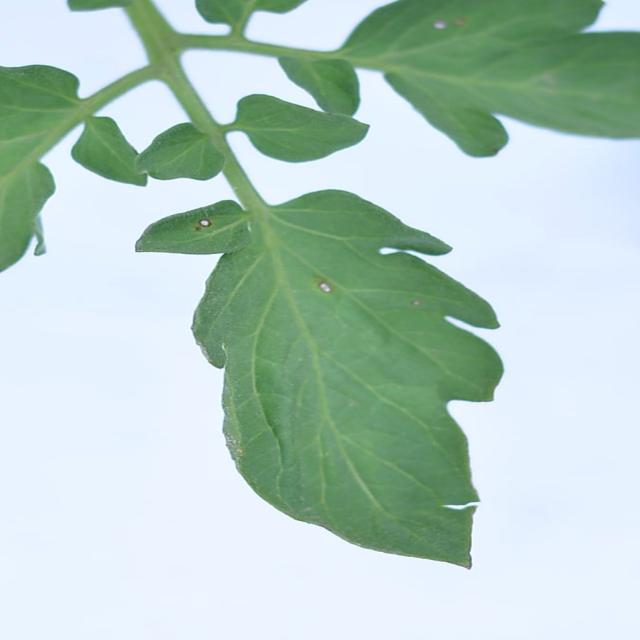healthy: (228, 91, 382, 179), (68, 110, 225, 195)
infected: (164, 214, 427, 326), (405, 11, 480, 32)
